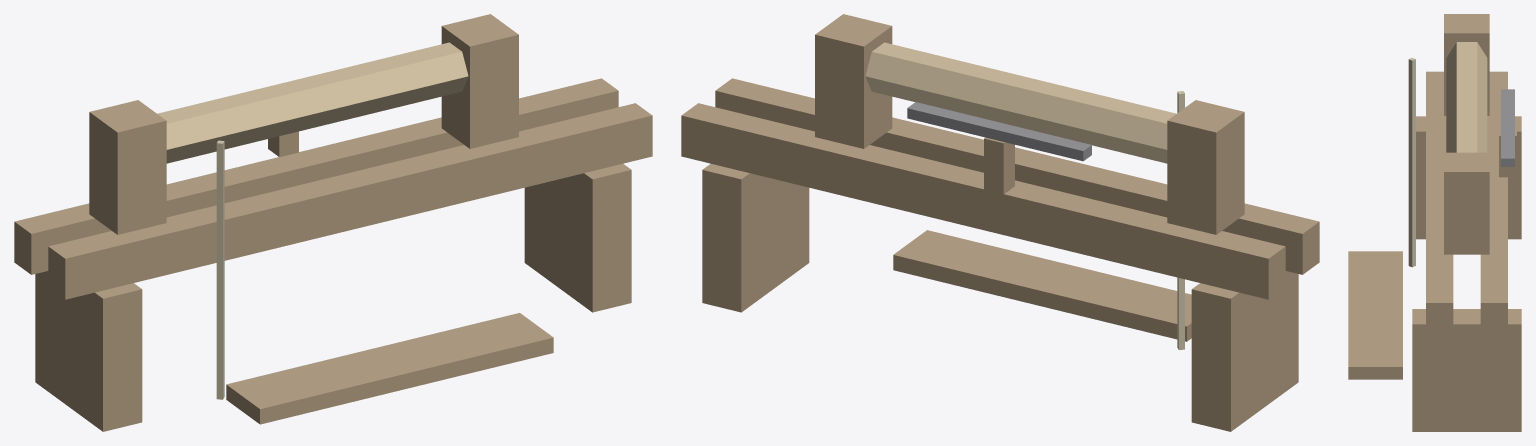
The model's file is prop-lathe-blank-tu1.fbx.
The picture shows the model from 3 angles, left to right: view 1: azimuth 30°, elevation 25°; view 2: azimuth 150°, elevation 25°; view 3: azimuth 270°, elevation 25°; orthographic projection. The views are drawn at different scales.
Parts seen in each view (by area): view 1: prop-lathe-blank-tu1; view 2: prop-lathe-blank-tu1; view 3: prop-lathe-blank-tu1.
Part boxes in pixels (<box>): prop-lathe-blank-tu1: <box>14,14,652,431</box>; prop-lathe-blank-tu1: <box>681,14,1319,431</box>; prop-lathe-blank-tu1: <box>1348,14,1521,431</box>.
Size of the model in its own units: 120 by 54 by 38.
